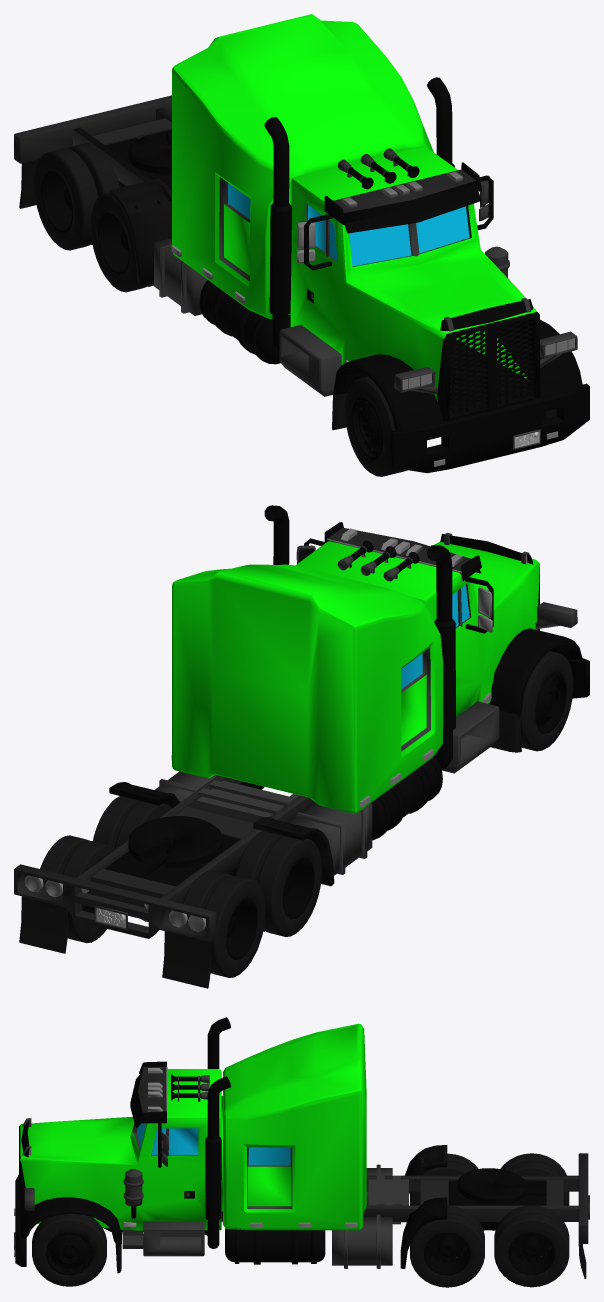
The model's file is semi_lod1.obj.
3 views of the same model, one above another, from view 1: azimuth 30°, elevation 25°; view 2: azimuth 150°, elevation 25°; view 3: azimuth 270°, elevation 25° (orthographic). The views are drawn at different scales.
Parts seen in each view (by area): view 1: semi; view 2: semi; view 3: semi.
Boxes of the visible parts, x1,y1,x2,y2 form: semi: [14, 14, 589, 476]; semi: [14, 505, 589, 988]; semi: [14, 1017, 589, 1287].
Size of the model in its own units: 8.59 by 11.85 by 29.12.
